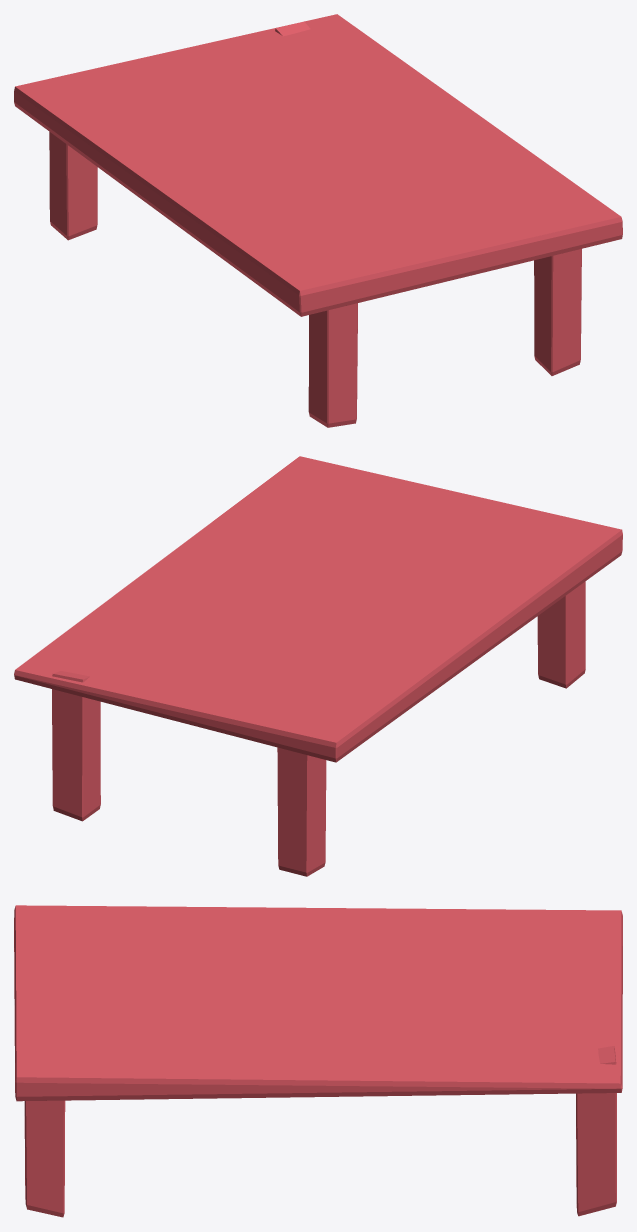
Rendered from Coffee Table.fbx.
The picture shows the model from 3 angles, top to bottom: view 1: azimuth 30°, elevation 25°; view 2: azimuth 150°, elevation 25°; view 3: azimuth 270°, elevation 25°; orthographic projection. The views are drawn at different scales.
Visible parts, largest first — view 1: Cube.006; view 2: Cube.006; view 3: Cube.006.
Boxes of the visible parts, box(x1,y1,x2,y2) form: Cube.006: box(14, 14, 622, 427); Cube.006: box(14, 456, 622, 876); Cube.006: box(14, 905, 622, 1217).
Bounding box in the file's own units: 336 × 153 × 514.
